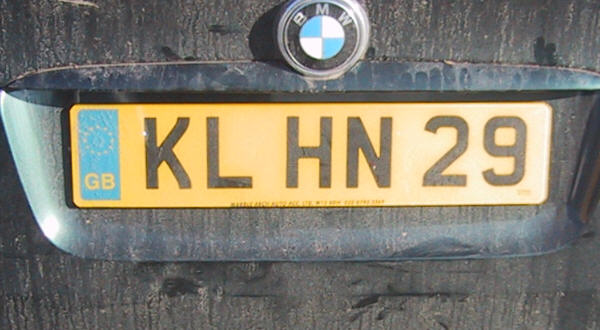license_plate: (70, 103, 551, 209)
